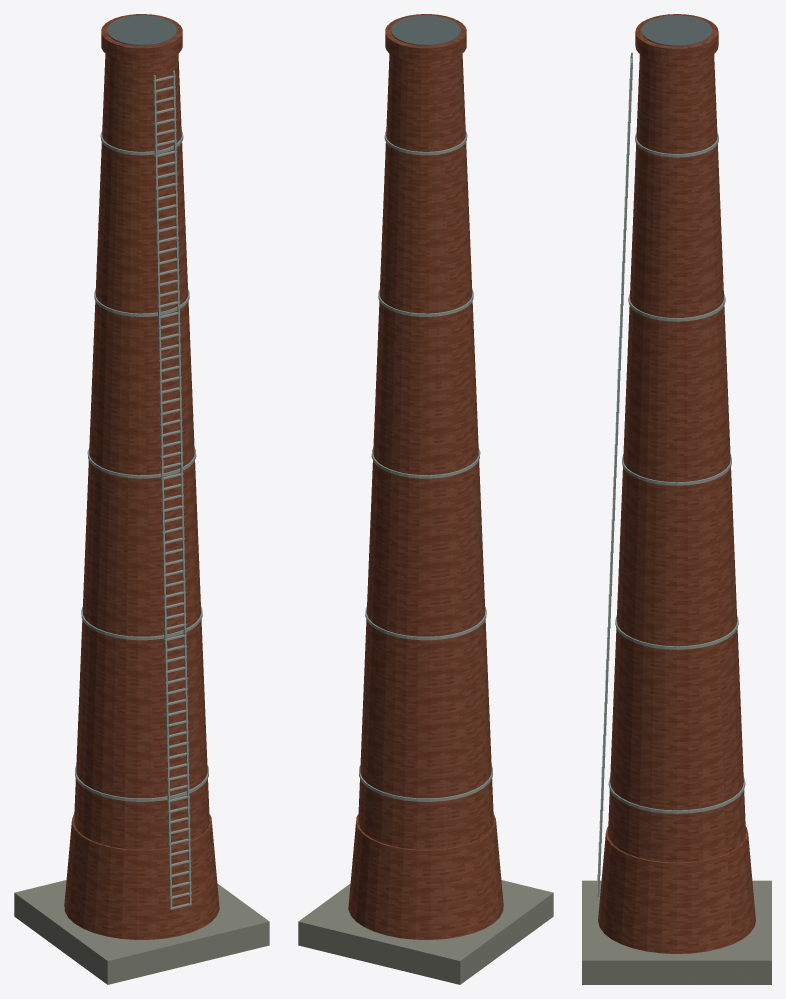
The model's file is boiler_chimney.glb.
3 views of the same model, side by side, from view 1: azimuth 30°, elevation 25°; view 2: azimuth 150°, elevation 25°; view 3: azimuth 270°, elevation 25° (orthographic).
Parts seen in each view (by area): view 1: boiler_chimney; view 2: boiler_chimney; view 3: boiler_chimney.
Boxes of the visible parts, x1,y1,x2,y2 form: boiler_chimney: [14, 14, 269, 984]; boiler_chimney: [298, 14, 553, 984]; boiler_chimney: [582, 14, 771, 984].
Size of the model in its own units: 6.4 by 34.02 by 6.4.
Materials: 4 (2 with a texture image).
